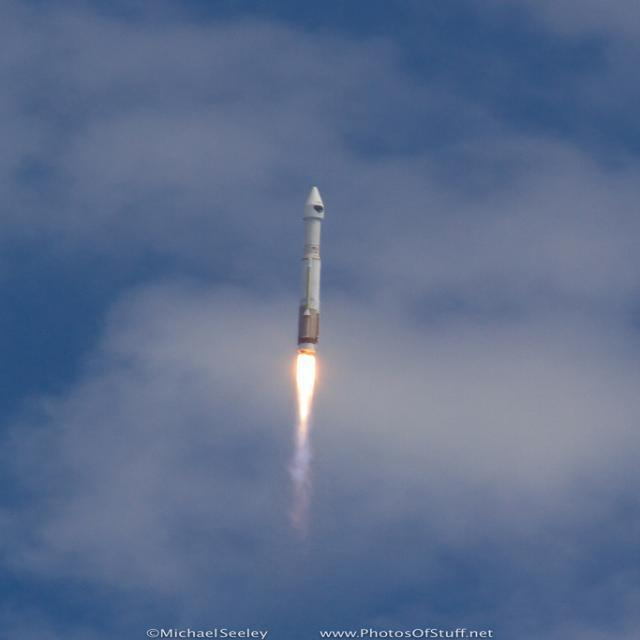Missile: (295, 176, 330, 352)
